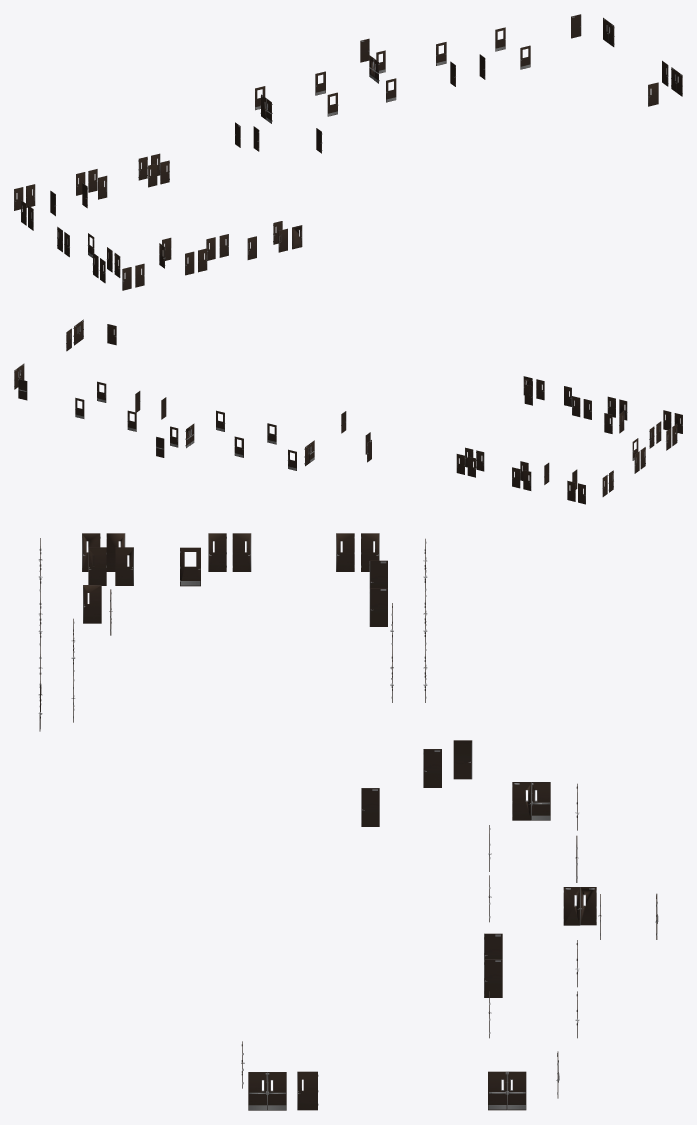
Rendered from envSecondFloor_Doors.fbx.
The picture shows the model from 3 angles, top to bottom: view 1: azimuth 30°, elevation 25°; view 2: azimuth 150°, elevation 25°; view 3: azimuth 270°, elevation 25°; orthographic projection. The views are drawn at different scales.
Parts seen in each view (by area): view 1: envSecondFloor_Doors; view 2: envSecondFloor_Doors; view 3: envSecondFloor_Doors.
Boxes of the visible parts, bbox=[...] form: envSecondFloor_Doors: bbox=[14, 14, 682, 290]; envSecondFloor_Doors: bbox=[14, 319, 682, 504]; envSecondFloor_Doors: bbox=[38, 533, 658, 1110].
Size of the model in its own units: 6414 by 213 by 3111.
Materials: 1 (1 with a texture image).
